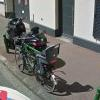Bicycle: (7, 34, 67, 93)
